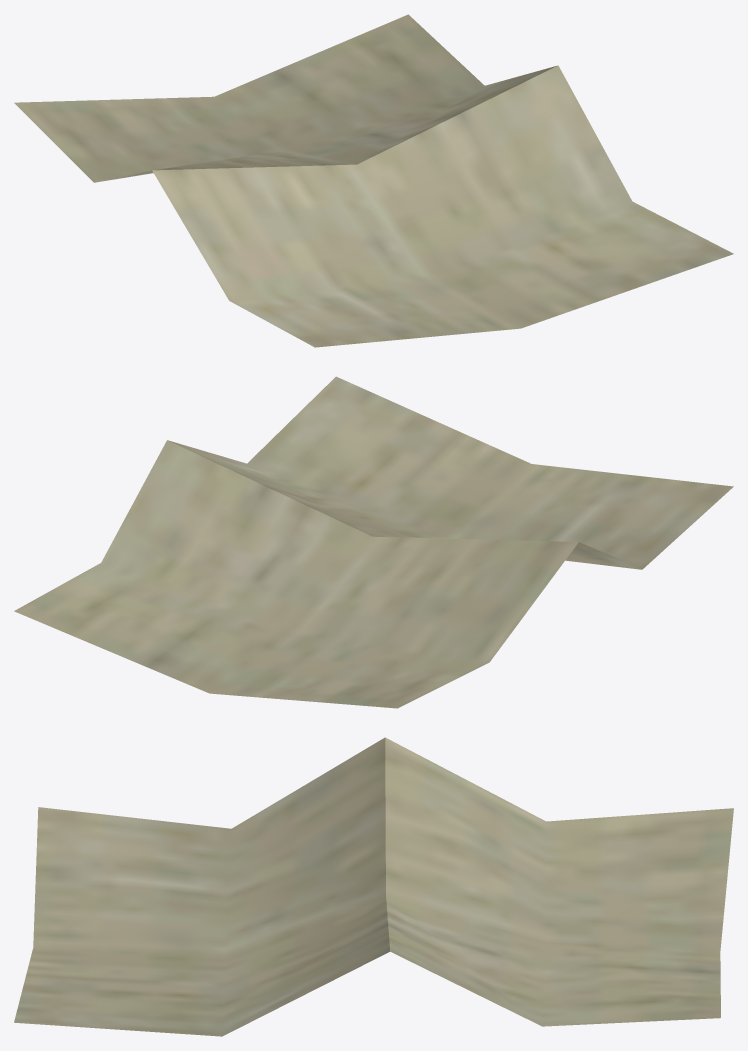
The model's file is poi_corl_tent_med_l3.fbx.
The picture shows the model from 3 angles, top to bottom: view 1: azimuth 30°, elevation 25°; view 2: azimuth 150°, elevation 25°; view 3: azimuth 270°, elevation 25°; orthographic projection. The views are drawn at different scales.
Visible parts, largest first — view 1: mesh_node; view 2: mesh_node; view 3: mesh_node.
Part boxes in pixels (x1,y1,x2,y2): mesh_node: [14, 14, 733, 347]; mesh_node: [14, 376, 733, 708]; mesh_node: [14, 737, 733, 1036].
Size of the model in its own units: 6.49 by 1.56 by 8.98.
